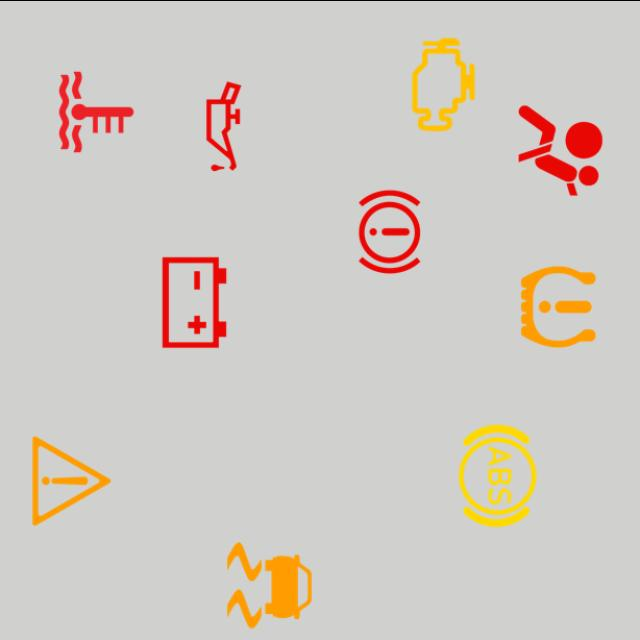Anti Lock Braking System: (442, 419, 554, 531)
Braking System Issue: (334, 175, 446, 287)
Charging System Issue: (138, 246, 250, 358)
Check Engine: (388, 28, 500, 140)
Electronic Stability Problem -ESP-: (214, 528, 326, 640)
Engine Overheating Warning Light: (41, 55, 152, 167)
Low Engine Oil Warning Light: (168, 70, 280, 182)
Low Tire Pressure Warning Light: (502, 250, 614, 362)
Master warning light: (16, 424, 128, 536)
SRS-Airbag: (504, 94, 616, 205)
